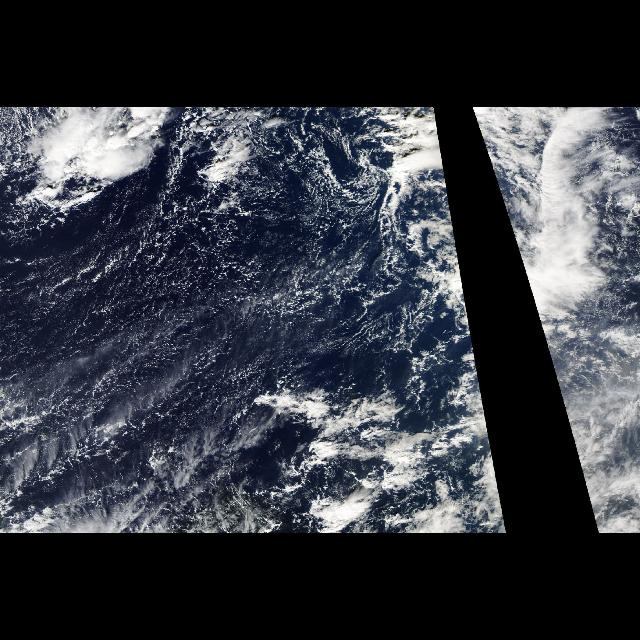Gravel: (12, 178, 450, 532)
Sugar: (1, 182, 323, 448)
